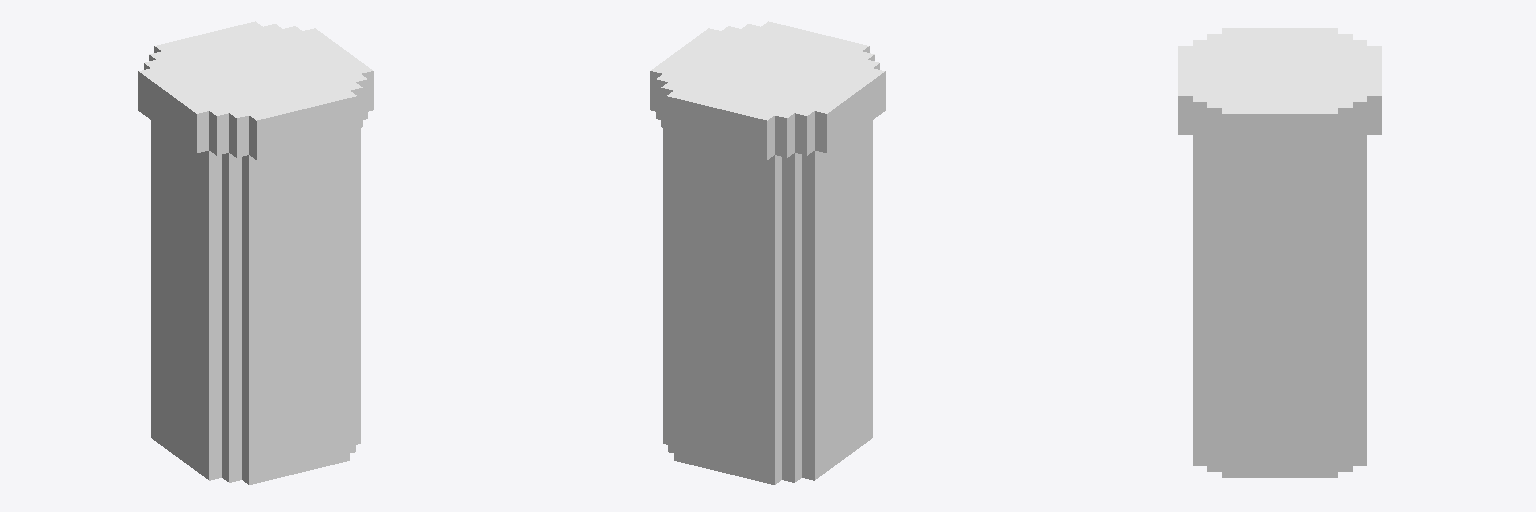
The model's file is Pills.obj.
3 renders of one model, left to right at view 1: azimuth 30°, elevation 25°; view 2: azimuth 150°, elevation 25°; view 3: azimuth 270°, elevation 25°, orthographic.
Parts seen in each view (by area): view 1: object 1; view 2: object 1; view 3: object 1.
Boxes of the visible parts, x1,y1,x2,y2 form: object 1: [138, 21, 373, 484]; object 1: [650, 21, 885, 484]; object 1: [1178, 28, 1381, 477].
Bounding box in the file's own units: 1.4 × 2.8 × 1.4.